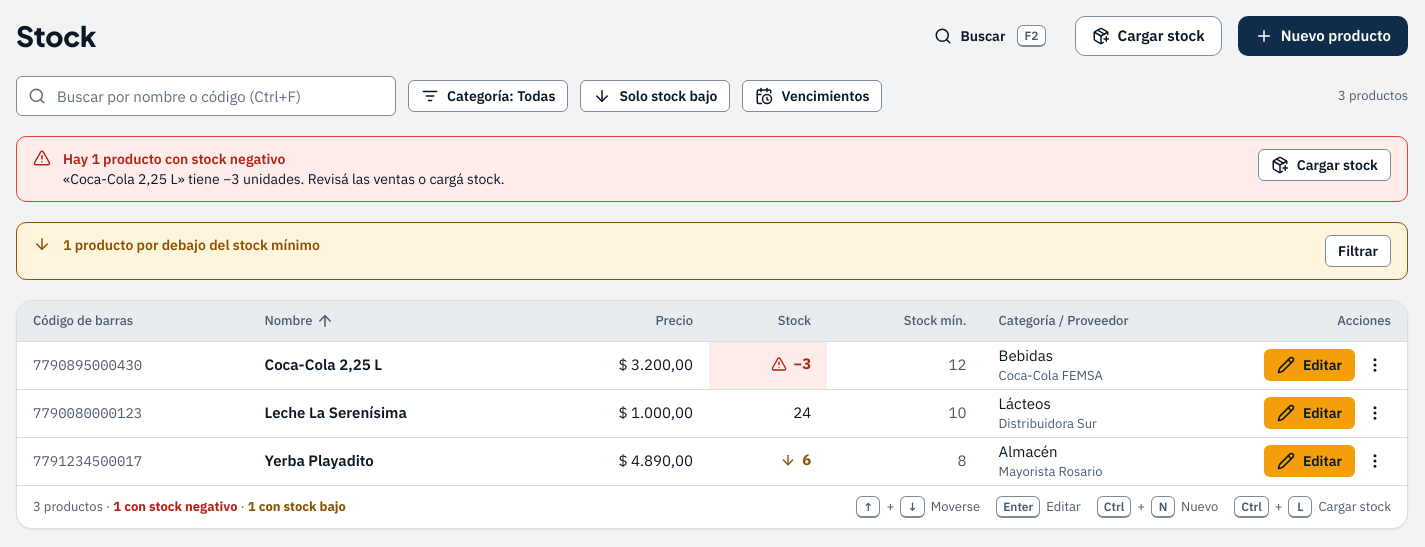
StockProducts — buscador, filtros y orden › el buscador inline filtra sin tildes y actualiza el contador
This screenshot has width=1425, height=547.
Type "serenisima" into the field named "Buscar productos".
click(206, 96); type("serenisima")  # box [16,76,396,116]
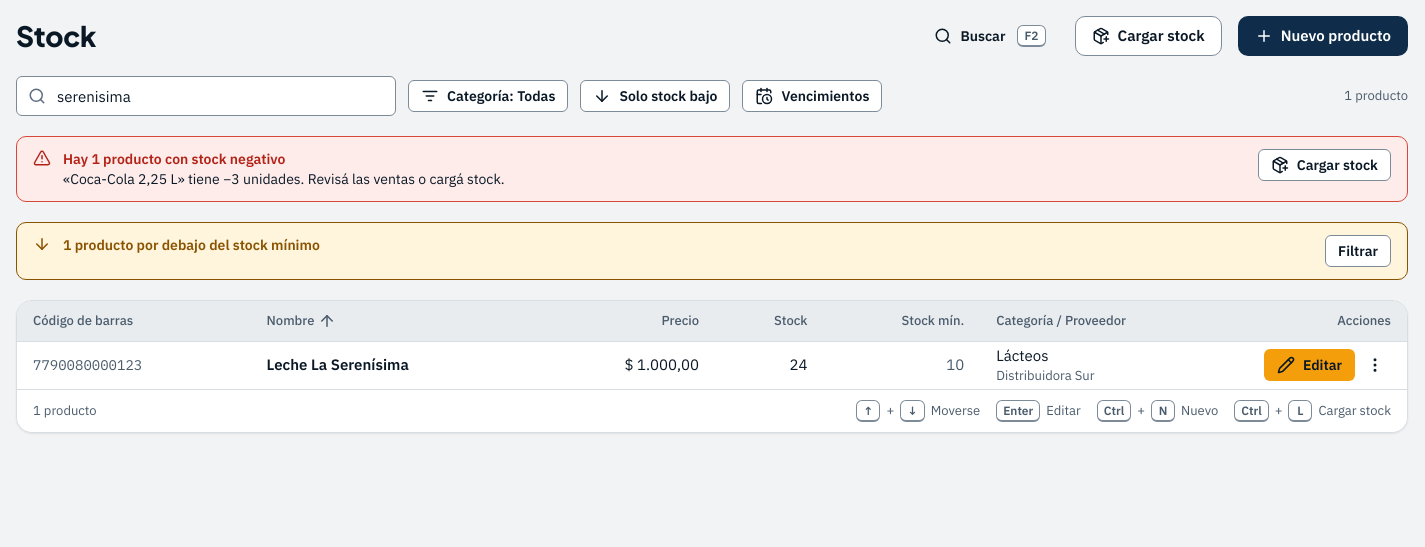
Check: the text "Leche La Serenísima" is shown, box [250,341,539,389]
Check: the text "Yerba Playadito" is gone
Check: the 1st text "1 producto" is shown, box [1344,87,1408,105]
